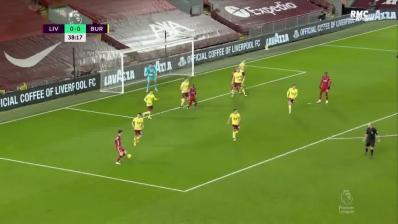football: (125, 152, 133, 161)
player: (314, 70, 335, 106), (113, 129, 132, 166), (226, 108, 244, 144), (230, 67, 247, 99), (142, 90, 159, 120), (132, 112, 146, 148), (144, 62, 160, 93), (177, 76, 192, 108), (286, 83, 300, 117), (186, 82, 200, 111)
referee: (361, 120, 381, 161)
